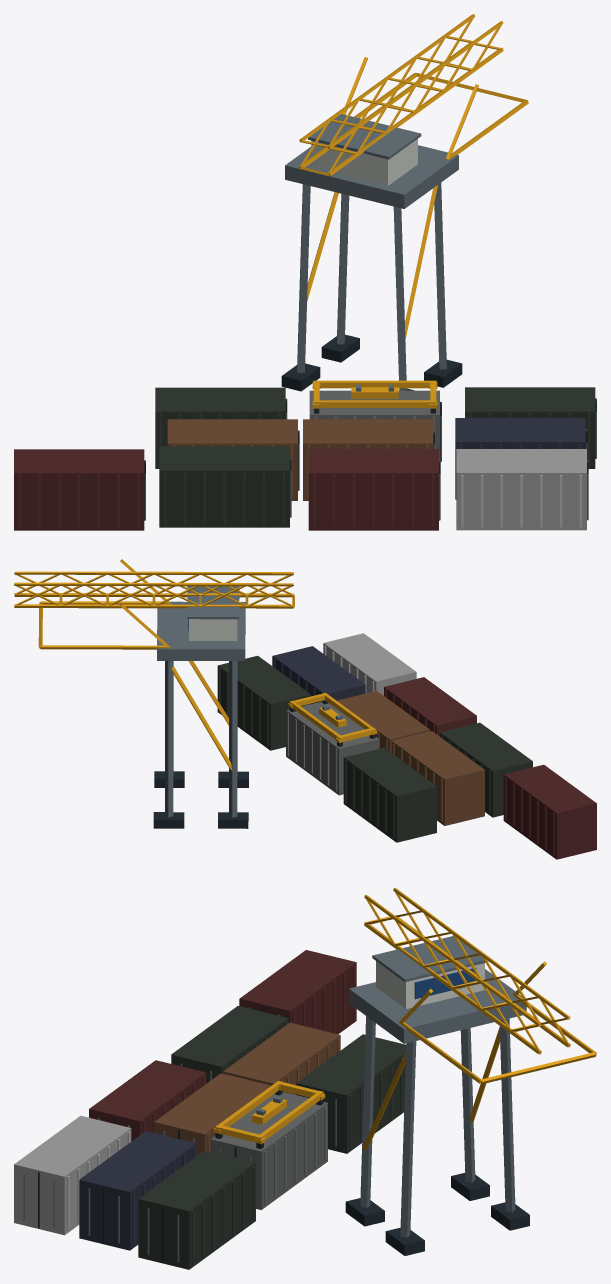
The model's file is gantry-crane-nw-se-05.glb.
3 renders of one model, top to bottom at view 1: azimuth 30°, elevation 25°; view 2: azimuth 150°, elevation 25°; view 3: azimuth 270°, elevation 25°, orthographic. The views are drawn at different scales.
Parts seen in each view (by area): view 1: gantry-crane-nw-se-05; view 2: gantry-crane-nw-se-05; view 3: gantry-crane-nw-se-05.
Part boxes in pixels (left/top/right/bottom): gantry-crane-nw-se-05: left=14, top=14, right=596, bottom=530; gantry-crane-nw-se-05: left=14, top=559, right=596, bottom=859; gantry-crane-nw-se-05: left=14, top=888, right=596, bottom=1269.
Size of the model in its own units: 70.54 by 31.18 by 57.74.
